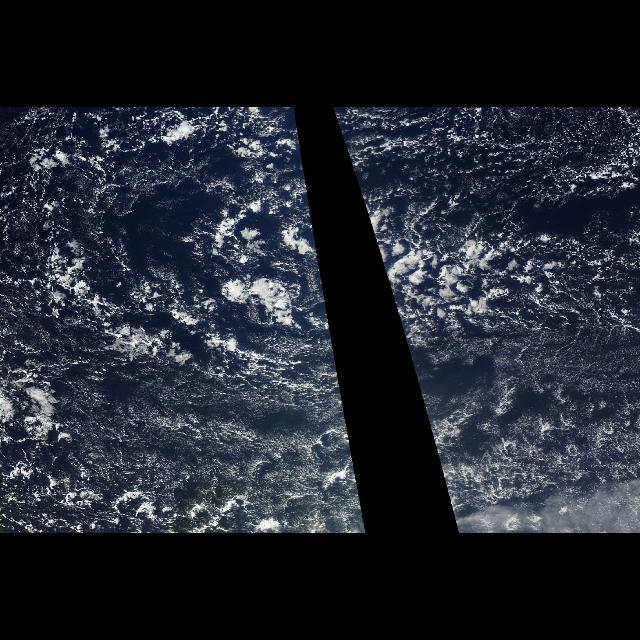Gravel: (1, 107, 359, 491), (333, 109, 639, 492)
Sugar: (1, 372, 358, 522), (417, 332, 639, 484)
